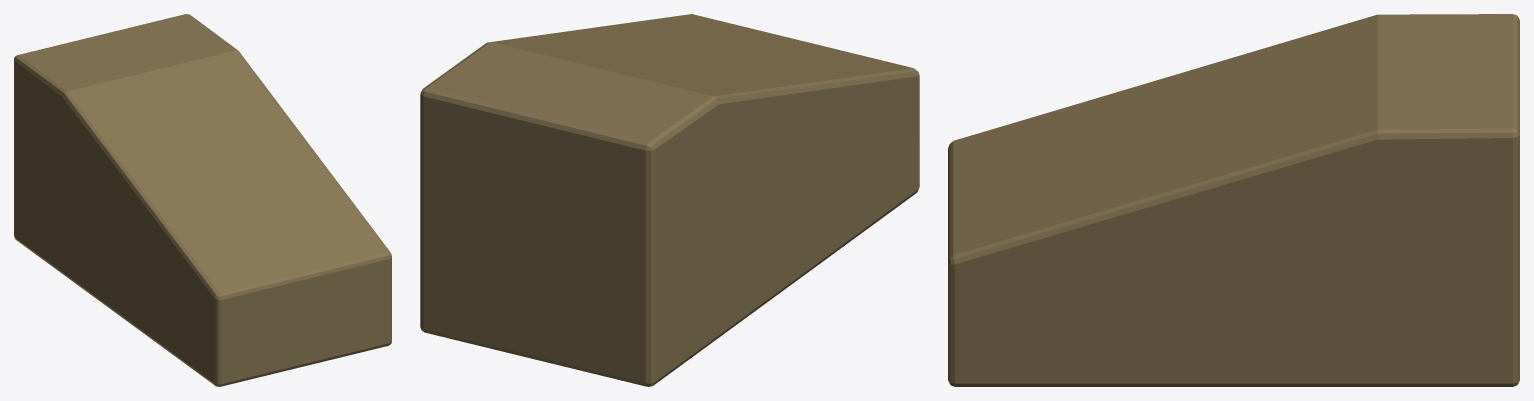
File: SM_Platform_2m_04_B_Ramp.fbx
3 renders of one model, left to right at view 1: azimuth 30°, elevation 25°; view 2: azimuth 150°, elevation 25°; view 3: azimuth 270°, elevation 25°, orthographic. The views are drawn at different scales.
Visible parts, largest first — view 1: polySurface96; view 2: polySurface96; view 3: polySurface96.
Part boxes in pixels (left/top/right/bottom): polySurface96: left=14, top=14, right=391, bottom=386; polySurface96: left=420, top=14, right=919, bottom=386; polySurface96: left=948, top=14, right=1519, bottom=386.
Size of the model in its own units: 200 by 200 by 401.
